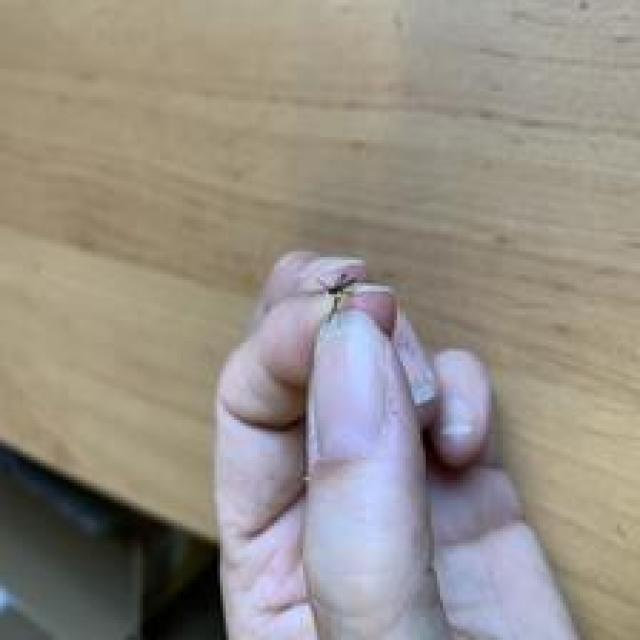Culex: (318, 271, 358, 323)
